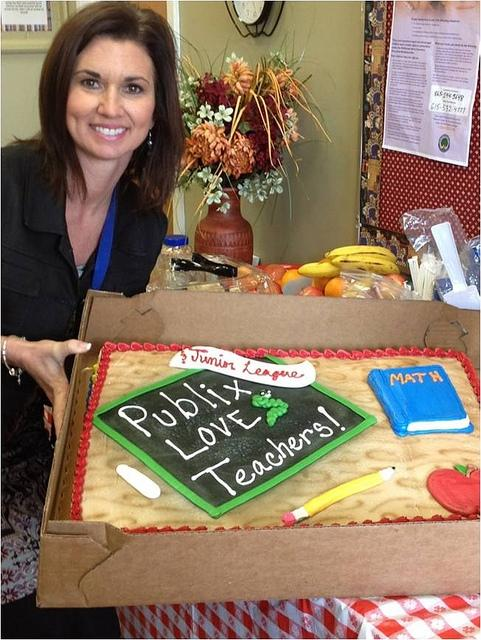apple: (426, 463, 480, 518), (264, 264, 286, 281), (384, 274, 404, 288), (298, 286, 324, 296), (274, 281, 284, 295)
banana: (330, 254, 399, 274), (324, 246, 398, 264), (298, 262, 342, 278)
